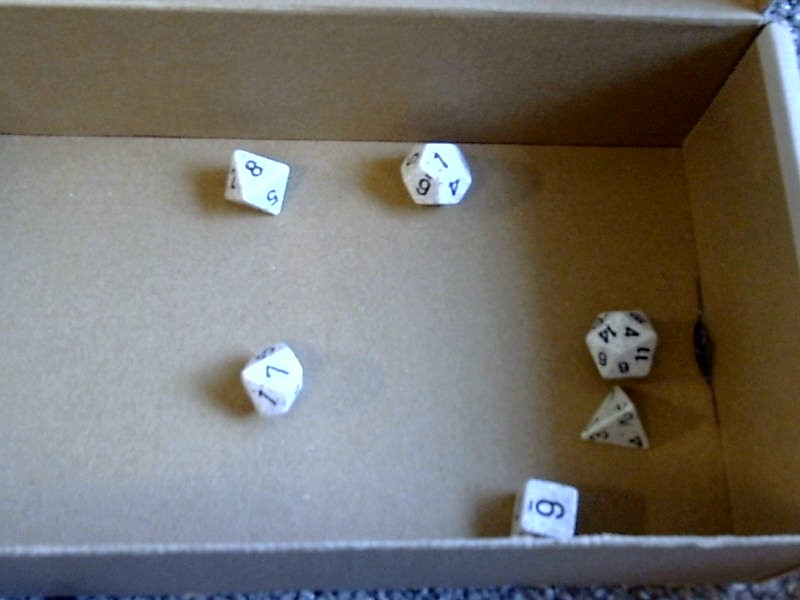d10 7: (230, 335, 313, 423)
d12 1: (392, 132, 480, 218)
d20 4: (579, 301, 668, 381)
d4 2: (573, 385, 659, 461)
d6 6: (501, 472, 586, 549)
d8 8: (211, 142, 301, 225)
